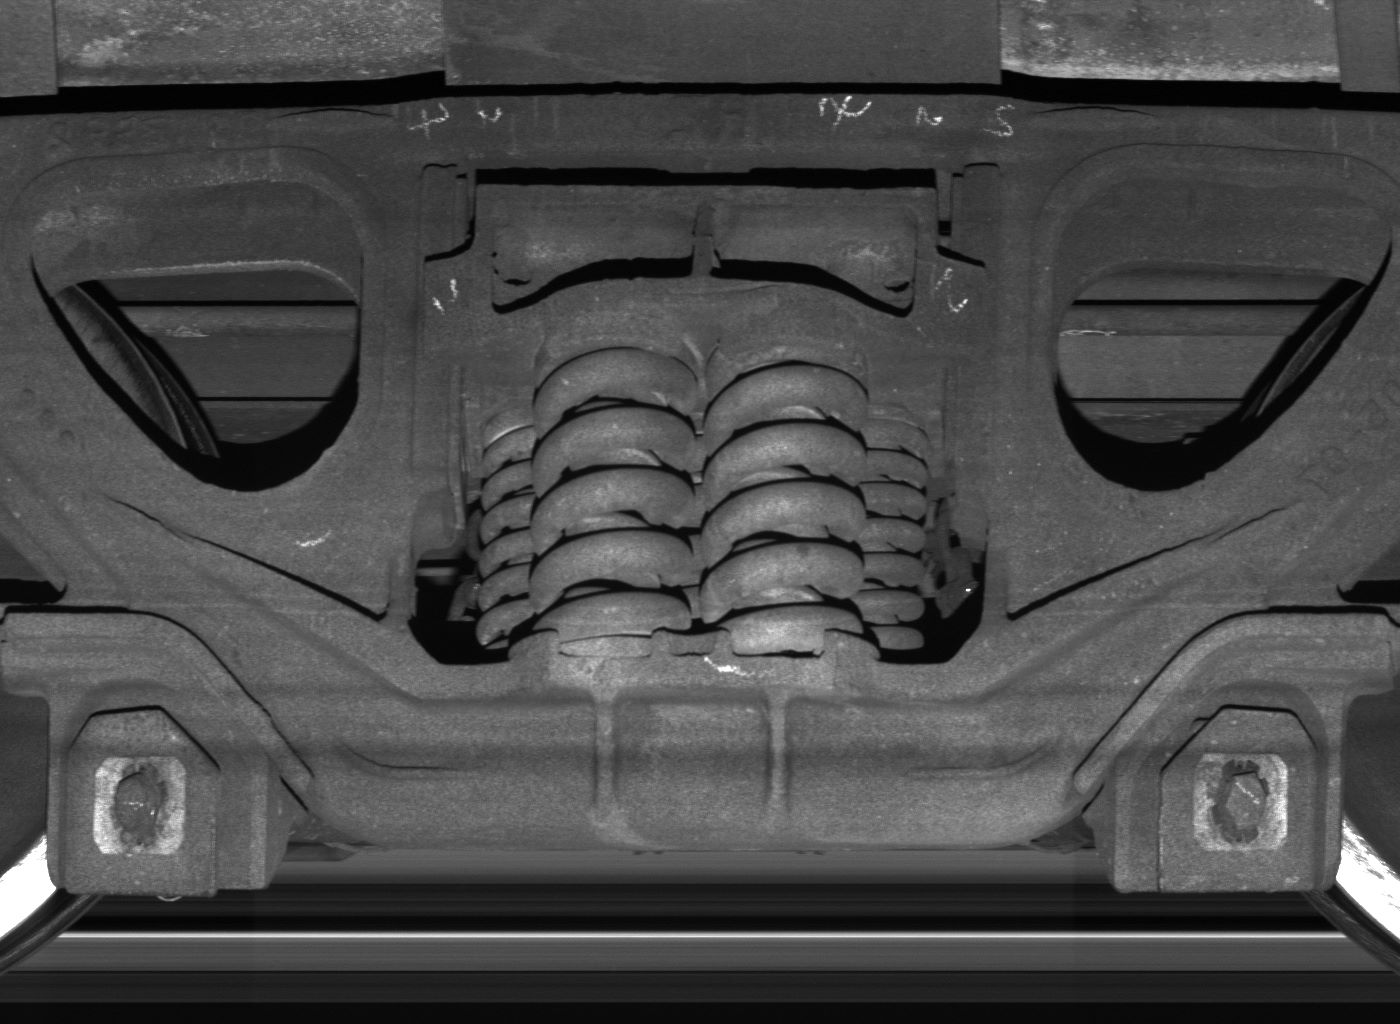normal: (1114, 680, 1347, 892), (50, 682, 268, 899)
